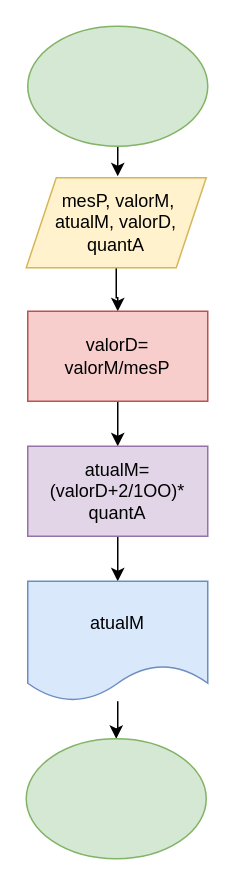
This 234x885 diagram has some shape labels left out. Here are the shapes that lost their labels. From the top down, the centre of each, then its label:
point (117, 85): Início
point (115, 798): Fim
